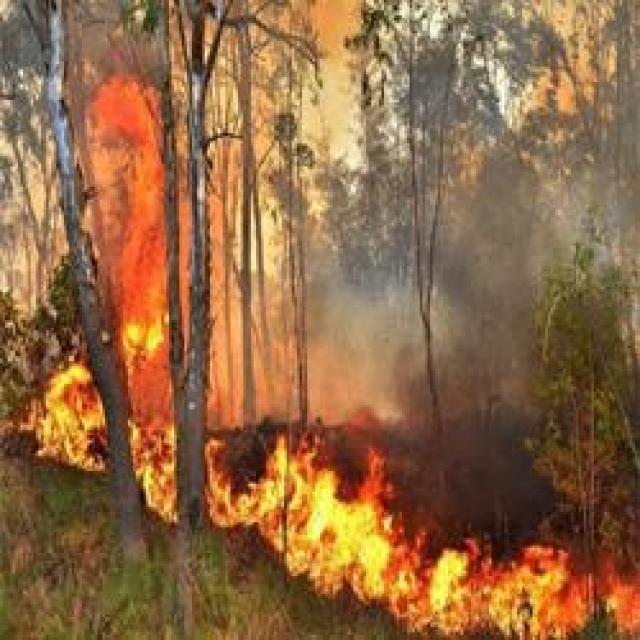fire: (236, 442, 444, 610), (121, 91, 177, 512), (427, 545, 640, 639)
smoke: (456, 233, 544, 551), (316, 292, 482, 428)
